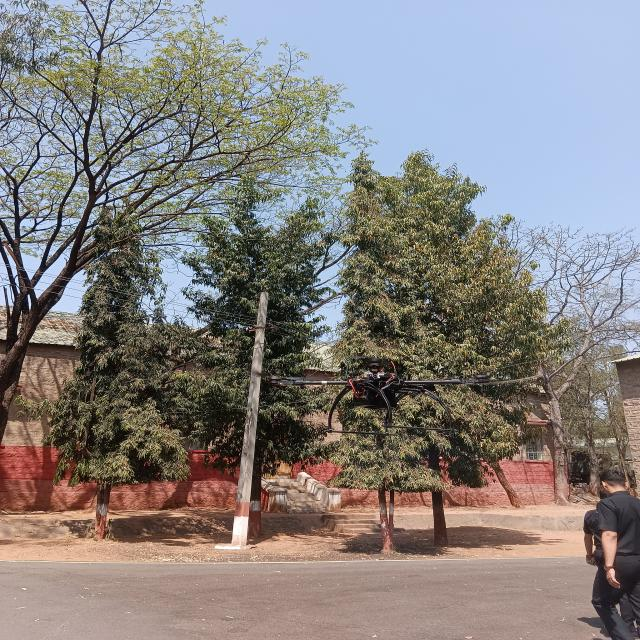drone: (228, 339, 525, 435)
